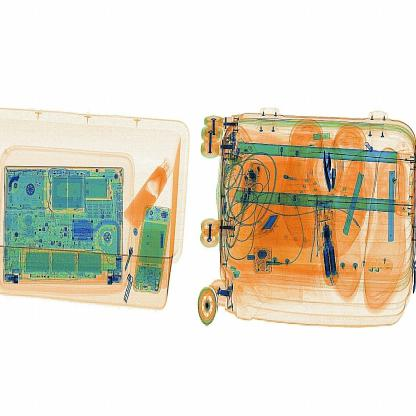pliers: (246, 202, 289, 246)
